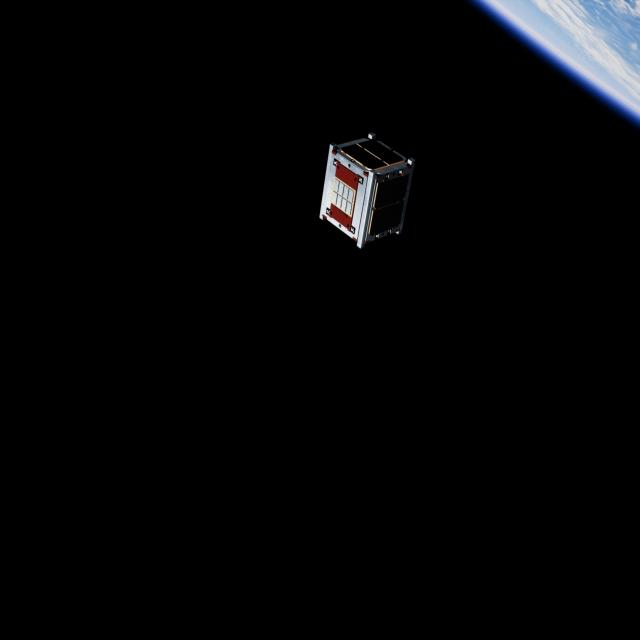satellite: (318, 130, 420, 253)
